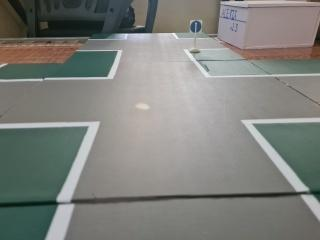straight: (185, 15, 208, 39)
